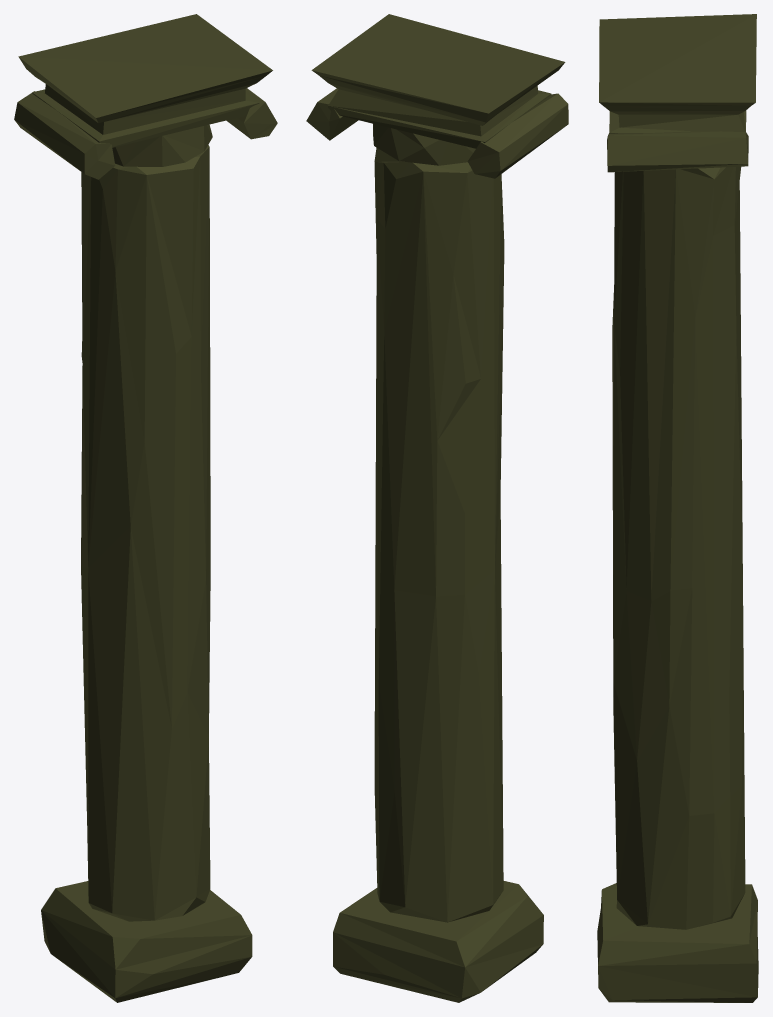
File: pillar-ruin.lod2.glb
The picture shows the model from 3 angles, left to right: view 1: azimuth 30°, elevation 25°; view 2: azimuth 150°, elevation 25°; view 3: azimuth 270°, elevation 25°; orthographic projection.
Visible parts, largest first — view 1: Pillar_lambert1_0; view 2: Pillar_lambert1_0; view 3: Pillar_lambert1_0.
Part boxes in pixels (x1,y1,x2,y2): Pillar_lambert1_0: [14, 14, 277, 1002]; Pillar_lambert1_0: [306, 14, 568, 1002]; Pillar_lambert1_0: [597, 14, 758, 1002].
Bounding box in the file's own units: 1.36 × 5.99 × 0.9577.
